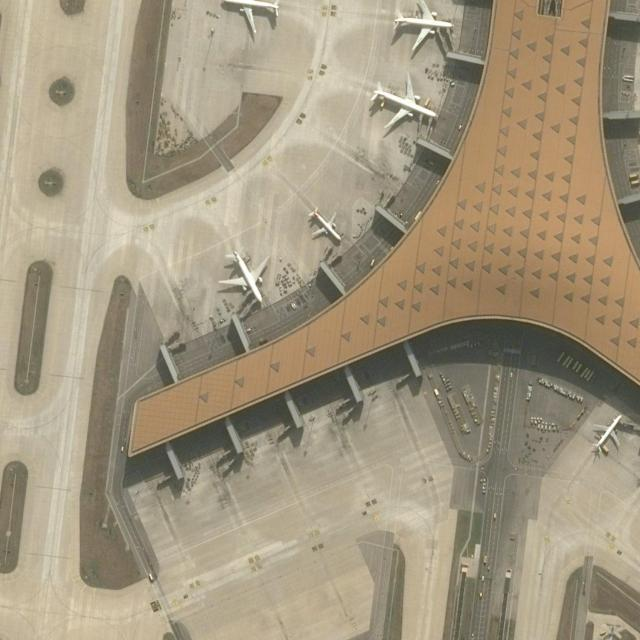Aircraft: (367, 76, 441, 132), (390, 1, 457, 57), (219, 243, 271, 307), (219, 0, 278, 36), (305, 205, 347, 246), (589, 413, 628, 457)
